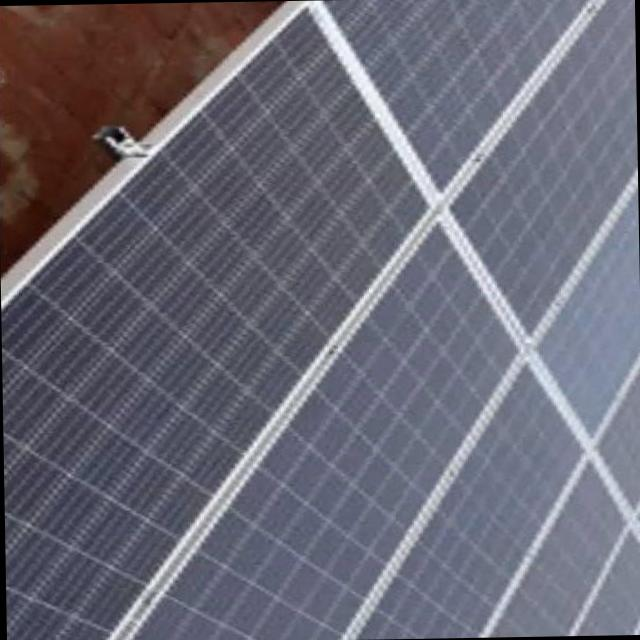no faulty: (2, 13, 431, 640), (130, 226, 516, 640), (455, 0, 637, 335), (357, 371, 579, 639), (328, 0, 594, 186), (541, 194, 640, 435), (489, 467, 625, 634), (580, 540, 640, 630), (601, 376, 640, 513)
